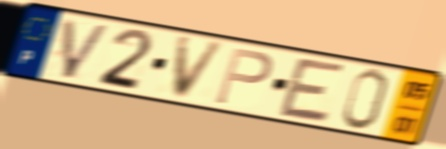0: (340, 67, 390, 133)
2: (98, 27, 156, 94)
E: (276, 55, 349, 126)
P: (212, 45, 275, 107)
V: (171, 35, 229, 101), (59, 16, 115, 82)
